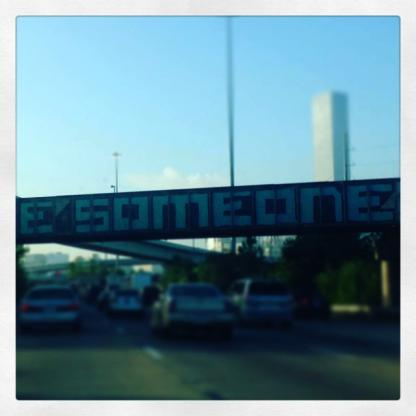Car: (16, 280, 330, 334)
